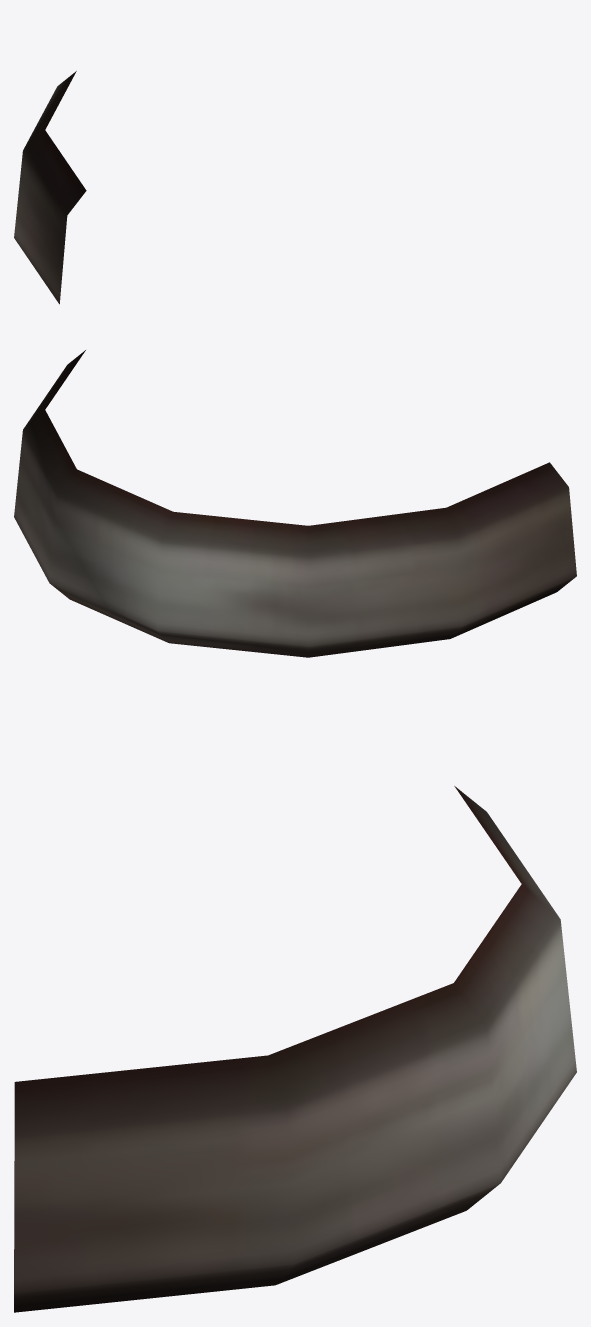
Rendered from simpleBandana.glb.
The picture shows the model from 3 angles, top to bottom: view 1: azimuth 30°, elevation 25°; view 2: azimuth 150°, elevation 25°; view 3: azimuth 270°, elevation 25°; orthographic projection. The views are drawn at different scales.
Visible parts, largest first — view 1: simpleBandana; view 2: simpleBandana; view 3: simpleBandana.
Boxes of the visible parts, bbox=[...] form: simpleBandana: bbox=[14, 71, 86, 304]; simpleBandana: bbox=[14, 350, 576, 657]; simpleBandana: bbox=[14, 786, 576, 1312].
Size of the model in its own units: 0.2158 by 0.0512 by 0.1162.
Materials: 1 (1 with a texture image).
